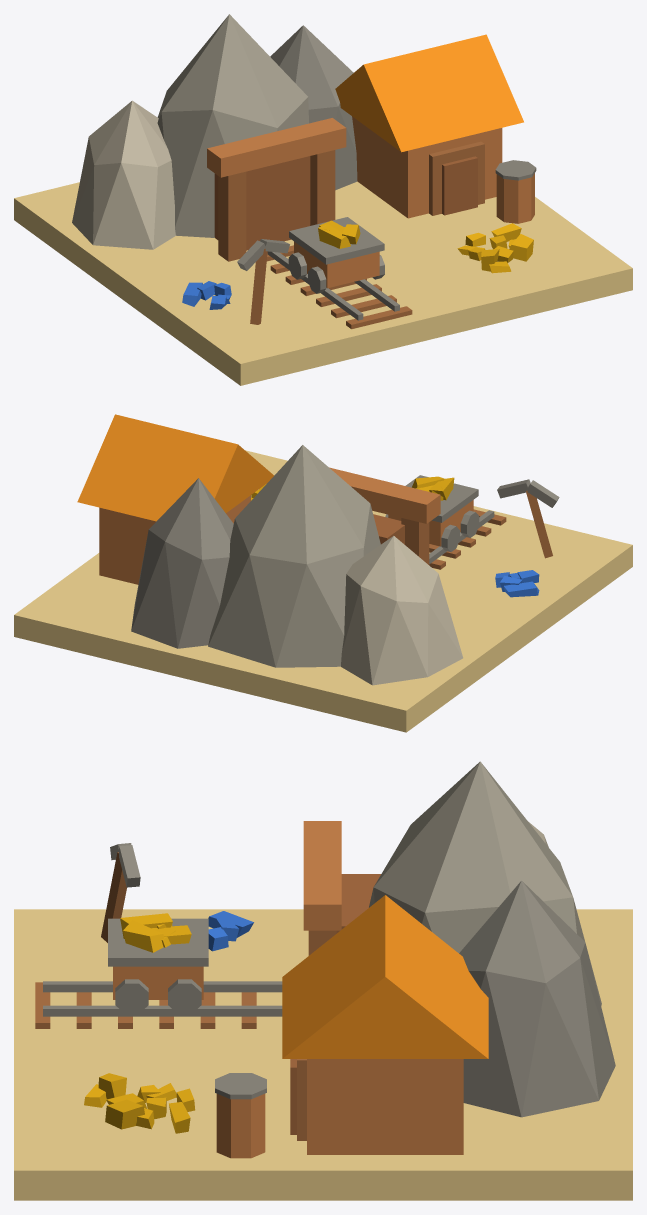
File: mine_t2_v1.glb
3 views of the same model, one above another, from view 1: azimuth 30°, elevation 25°; view 2: azimuth 150°, elevation 25°; view 3: azimuth 270°, elevation 25° (orthographic). The views are drawn at different scales.
Parts seen in each view (by area): view 1: mine_t2_v1; view 2: mine_t2_v1; view 3: mine_t2_v1.
Part boxes in pixels (x1,y1,x2,y2): mine_t2_v1: (14,14,632,385); mine_t2_v1: (14,414,632,732); mine_t2_v1: (14,761,632,1200).
Bounding box in the file's own units: 0.75 × 0.38 × 0.75.
Materials: 1 (1 with a texture image).
